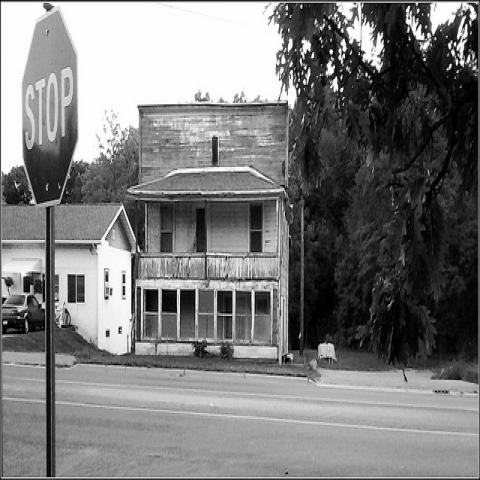car: (2, 292, 46, 334)
